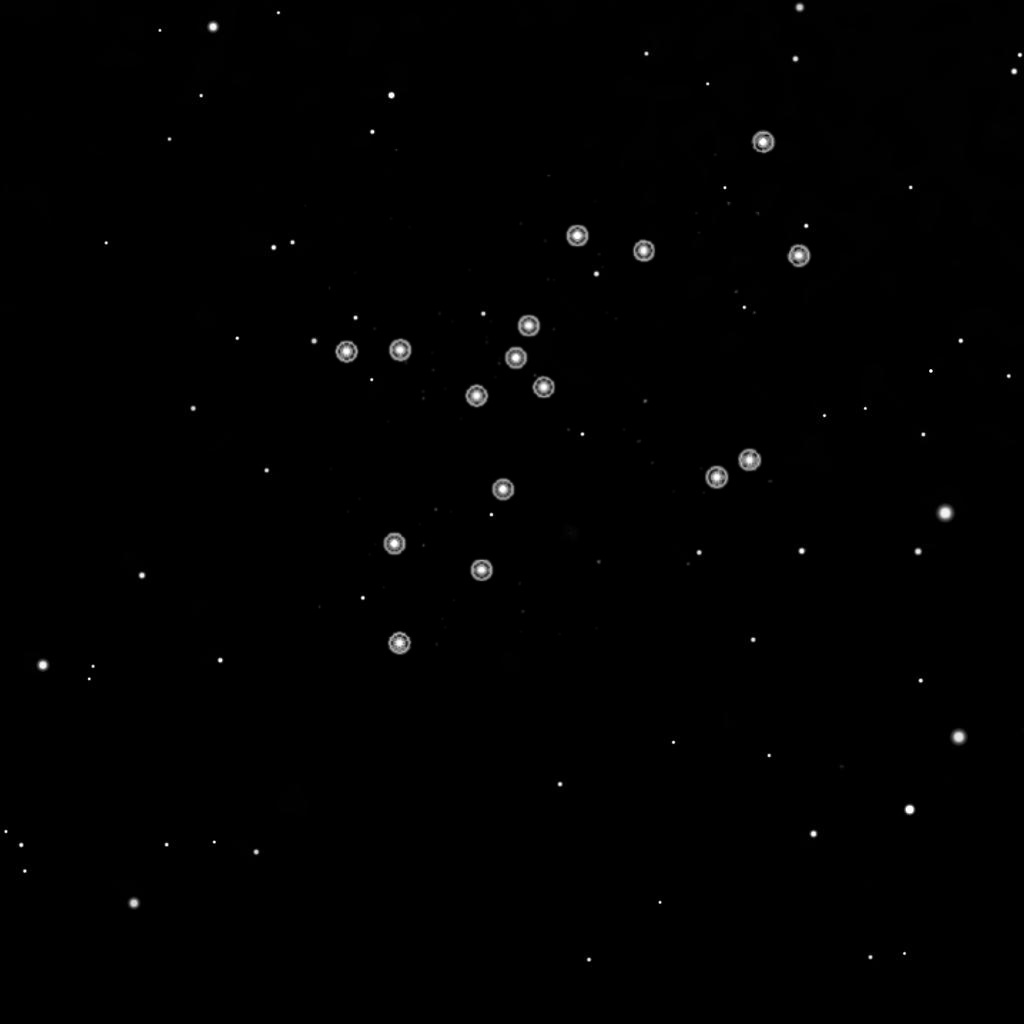canis_major: (460, 218, 662, 414)
